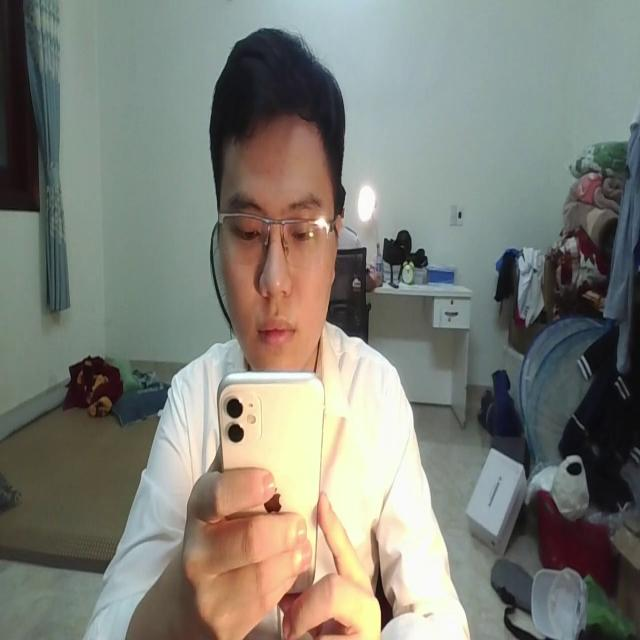phone: (216, 362, 325, 596)
student: (87, 22, 471, 640)
